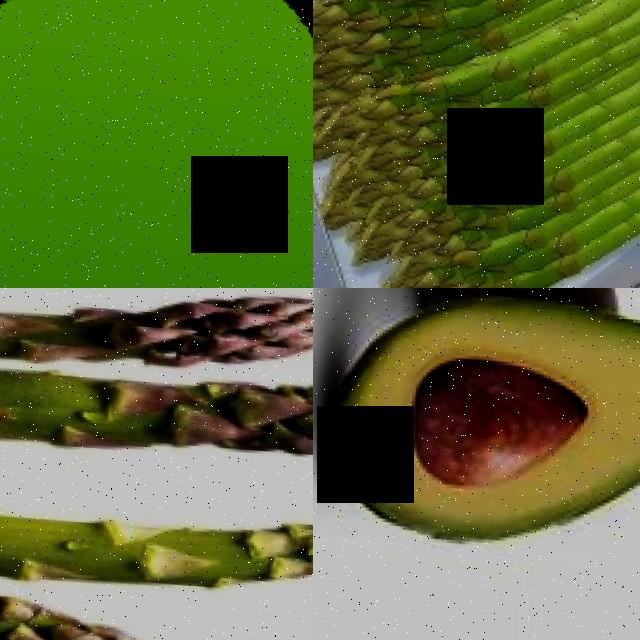apple: (0, 0, 313, 288)
asparagus: (0, 340, 313, 502), (0, 455, 313, 595), (0, 288, 313, 394), (0, 583, 219, 640)
avocado: (331, 288, 640, 562)
